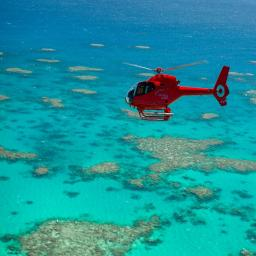helicopter: (123, 64, 232, 122)
